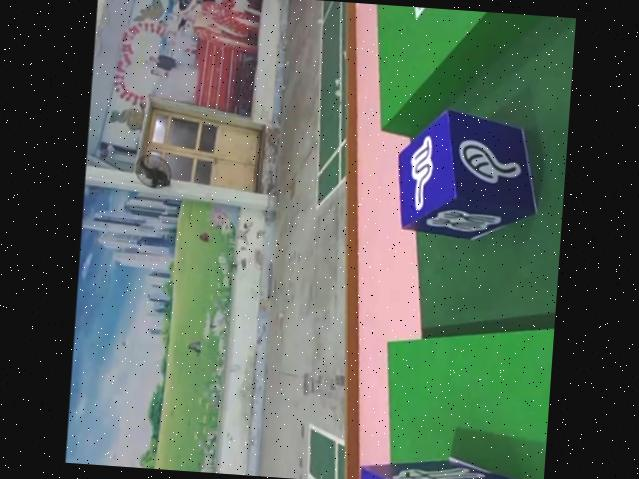R2 Fake Blue: (394, 107, 548, 245), (352, 449, 544, 479)
